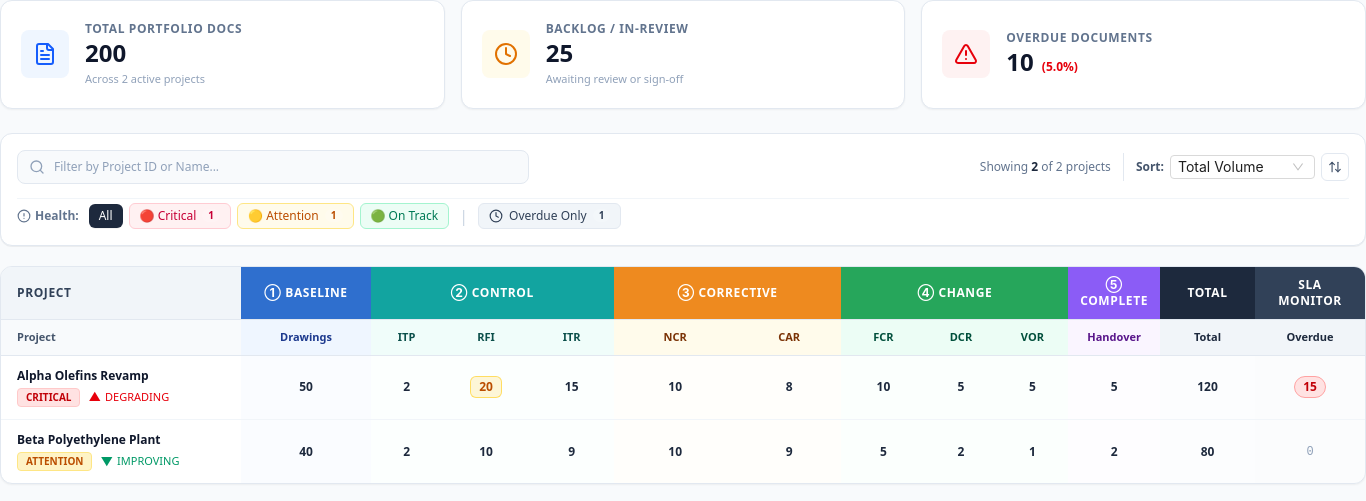
Scenario: OverviewTab Component - Search Filtering › filters project rows and totalFilteredCount when searching by project name
Expected: the text "Showing 2 of 2 projects" is shown, x1=980 y1=158 x2=1111 y2=174
Expected: the row with test id "project-matrix-row-PRJ-01" is shown, x1=1 y1=355 x2=1365 y2=419
Type "Alpha" into the field with placeholder "Filter by Project ID or Name..." at (273, 166), box x1=17 y1=150 x2=529 y2=184
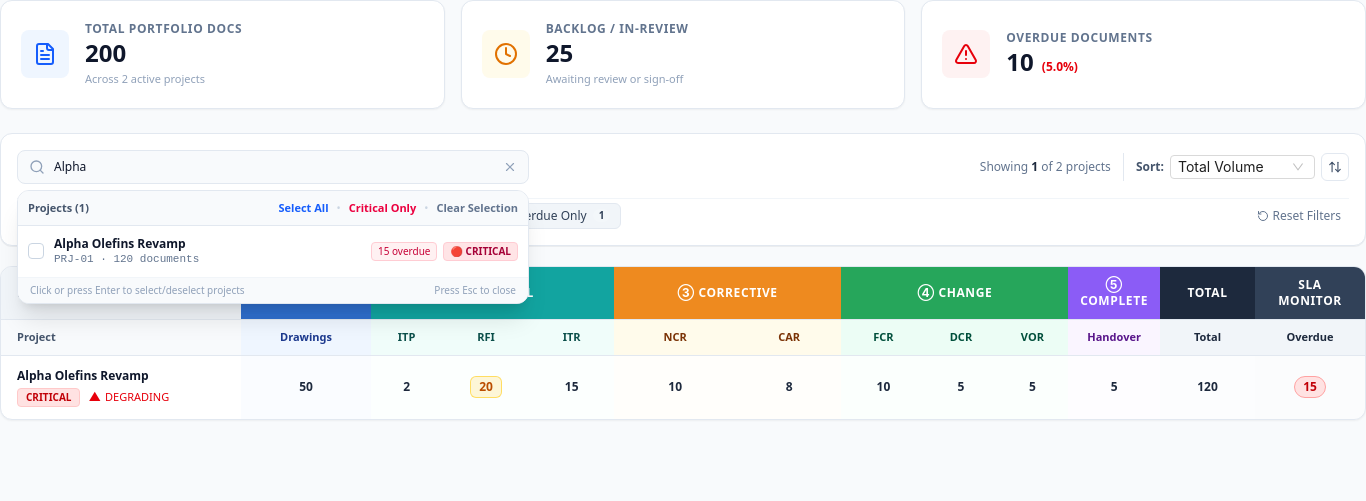
Expected: the text "Showing 1 of 2 projects" is shown, x1=980 y1=158 x2=1111 y2=174
Expected: the row with test id "project-matrix-row-PRJ-02" is gone
Expected: the text "Beta Polyethylene Plant" is gone
